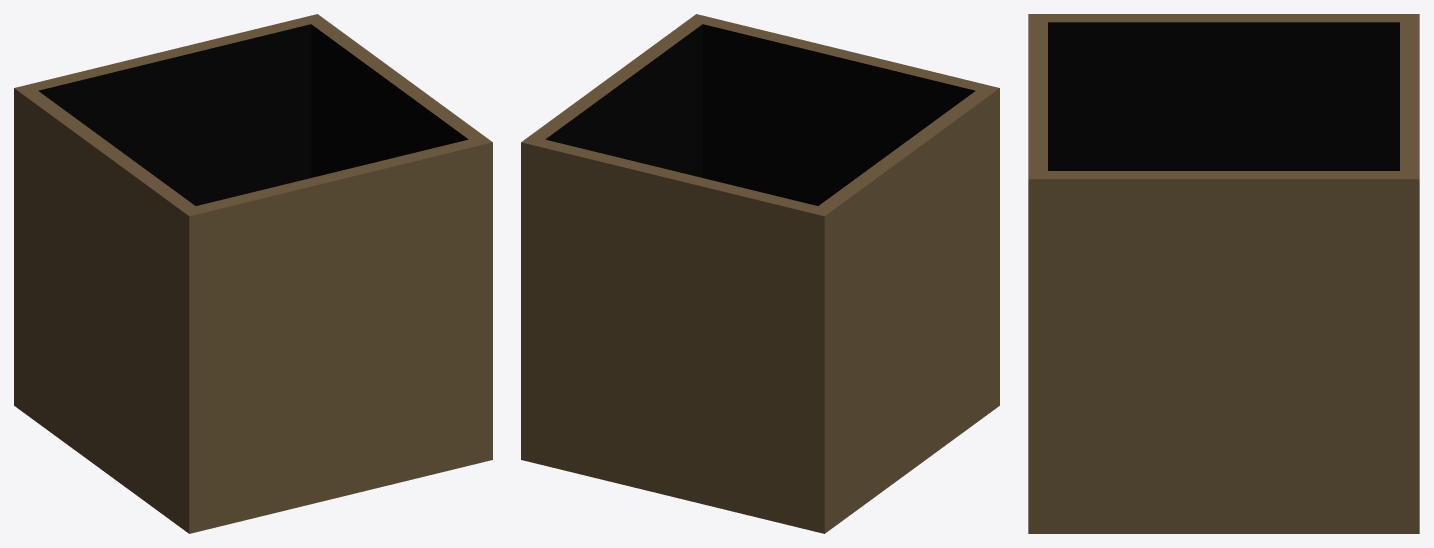
Rendered from Carton.glb.
The picture shows the model from 3 angles, left to right: view 1: azimuth 30°, elevation 25°; view 2: azimuth 150°, elevation 25°; view 3: azimuth 270°, elevation 25°; orthographic projection. The views are drawn at different scales.
Parts seen in each view (by area): view 1: Cube.013; view 2: Cube.013; view 3: Cube.013.
Part boxes in pixels (x1,y1,x2,y2): Cube.013: (14,14,492,533); Cube.013: (521,14,999,533); Cube.013: (1028,14,1419,533).
Size of the model in its own units: 2 by 2 by 2.
